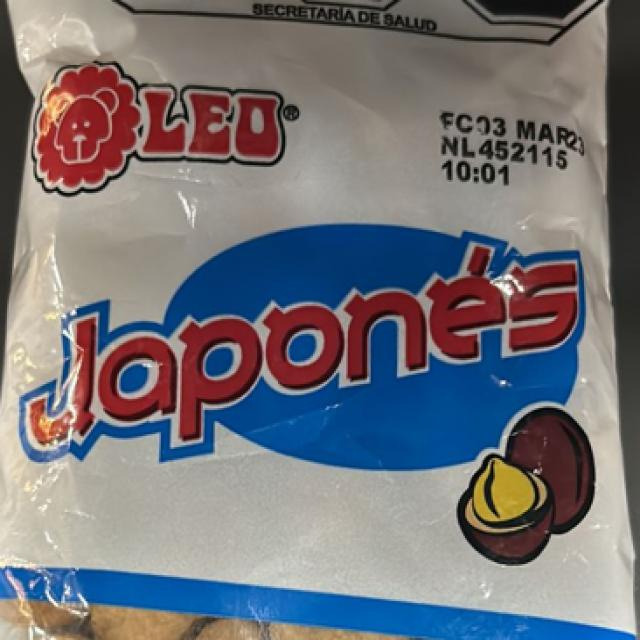leoCacahuates: (33, 1, 596, 640)
